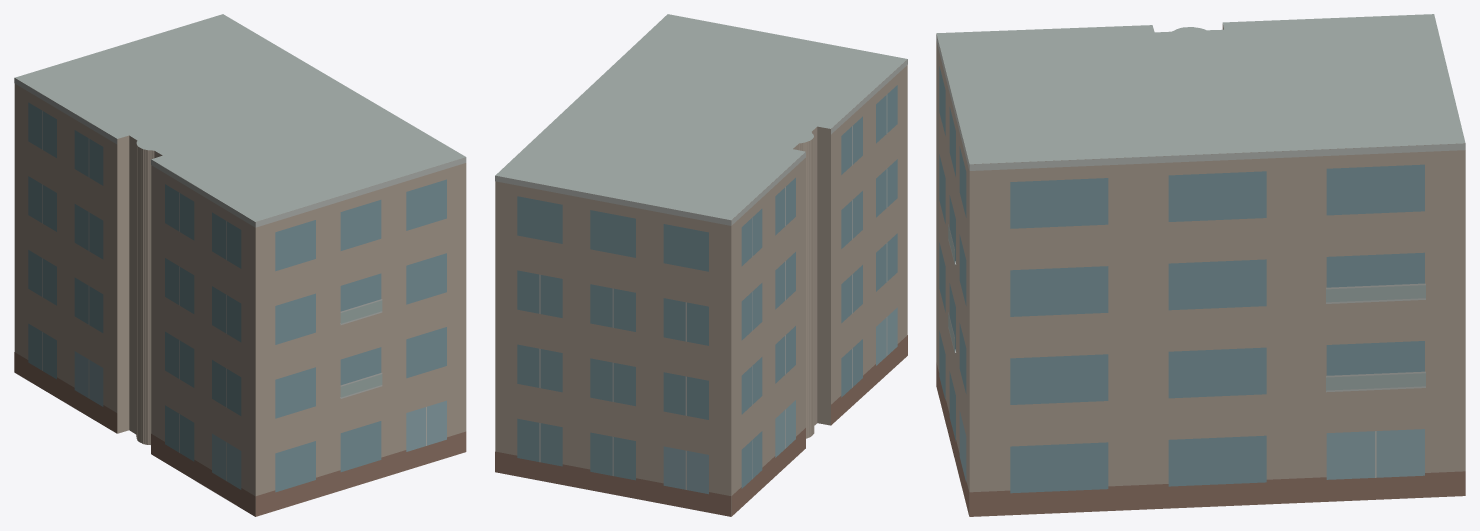
File: survey-upis-32665565.glb
3 views of the same model, side by side, from view 1: azimuth 30°, elevation 25°; view 2: azimuth 150°, elevation 25°; view 3: azimuth 270°, elevation 25° (orthographic). The views are drawn at different scales.
Visible parts, largest first — view 1: survey-upis-32665565.tmp; view 2: survey-upis-32665565.tmp; view 3: survey-upis-32665565.tmp.
Boxes of the visible parts, x1,y1,x2,y2 form: survey-upis-32665565.tmp: (14,14,466,516); survey-upis-32665565.tmp: (495,14,907,516); survey-upis-32665565.tmp: (936,14,1465,516).
Bounding box in the file's own units: 11.62 × 12.7 × 17.29.
